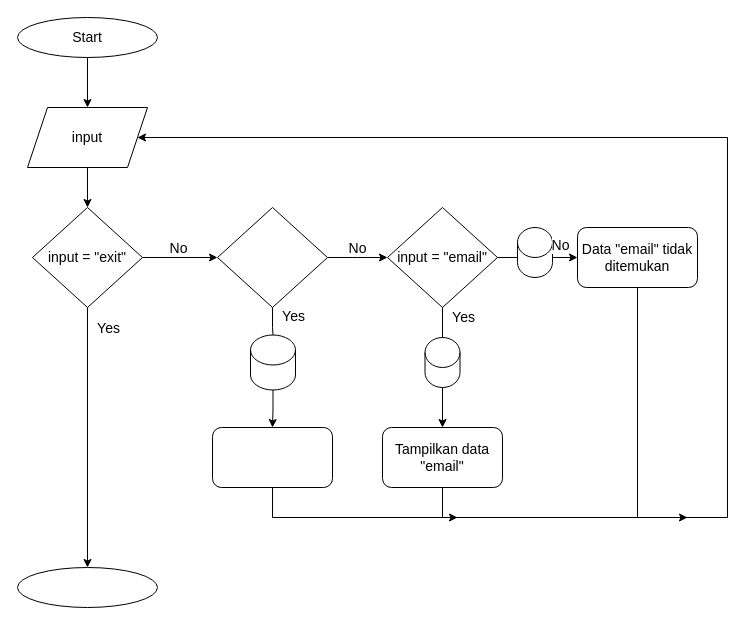
The diagram is 753 pixels wide and 625 high, and some of its shapes have lost their labels. Each missing label, with the box of its shape:
End: (16, 566, 158, 608)
input = "all": (216, 206, 328, 308)
Tampilkan semua data login: (212, 426, 332, 488)
